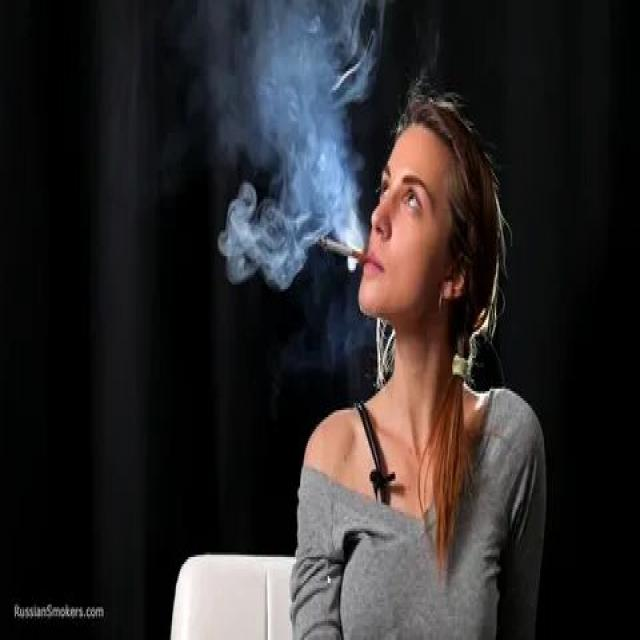cigarette: (316, 232, 368, 270)
